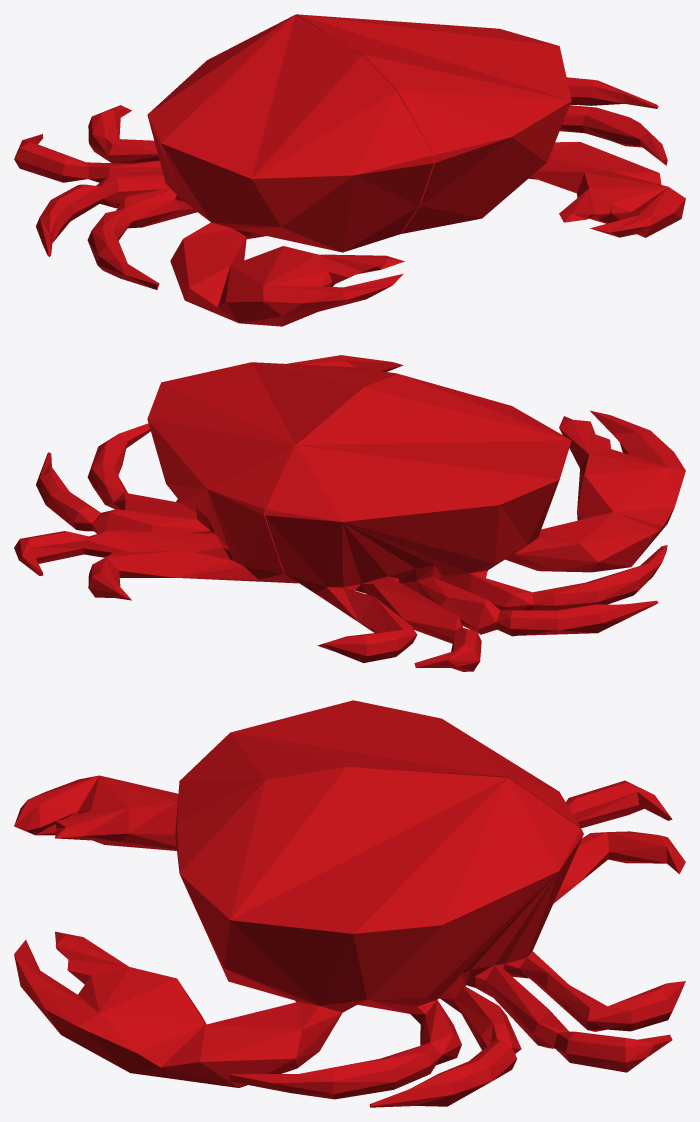
Rendered from Crab_01.fbx.
The picture shows the model from 3 angles, top to bottom: view 1: azimuth 30°, elevation 25°; view 2: azimuth 150°, elevation 25°; view 3: azimuth 270°, elevation 25°; orthographic projection. The views are drawn at different scales.
Parts seen in each view (by area): view 1: Crab_01; view 2: Crab_01; view 3: Crab_01.
Boxes of the visible parts, left/top/right/bottom form: Crab_01: left=14, top=14, right=685, bottom=326; Crab_01: left=14, top=355, right=685, bottom=671; Crab_01: left=14, top=700, right=685, bottom=1107.
Bounding box in the file's own units: 306 × 79.1 × 243.
